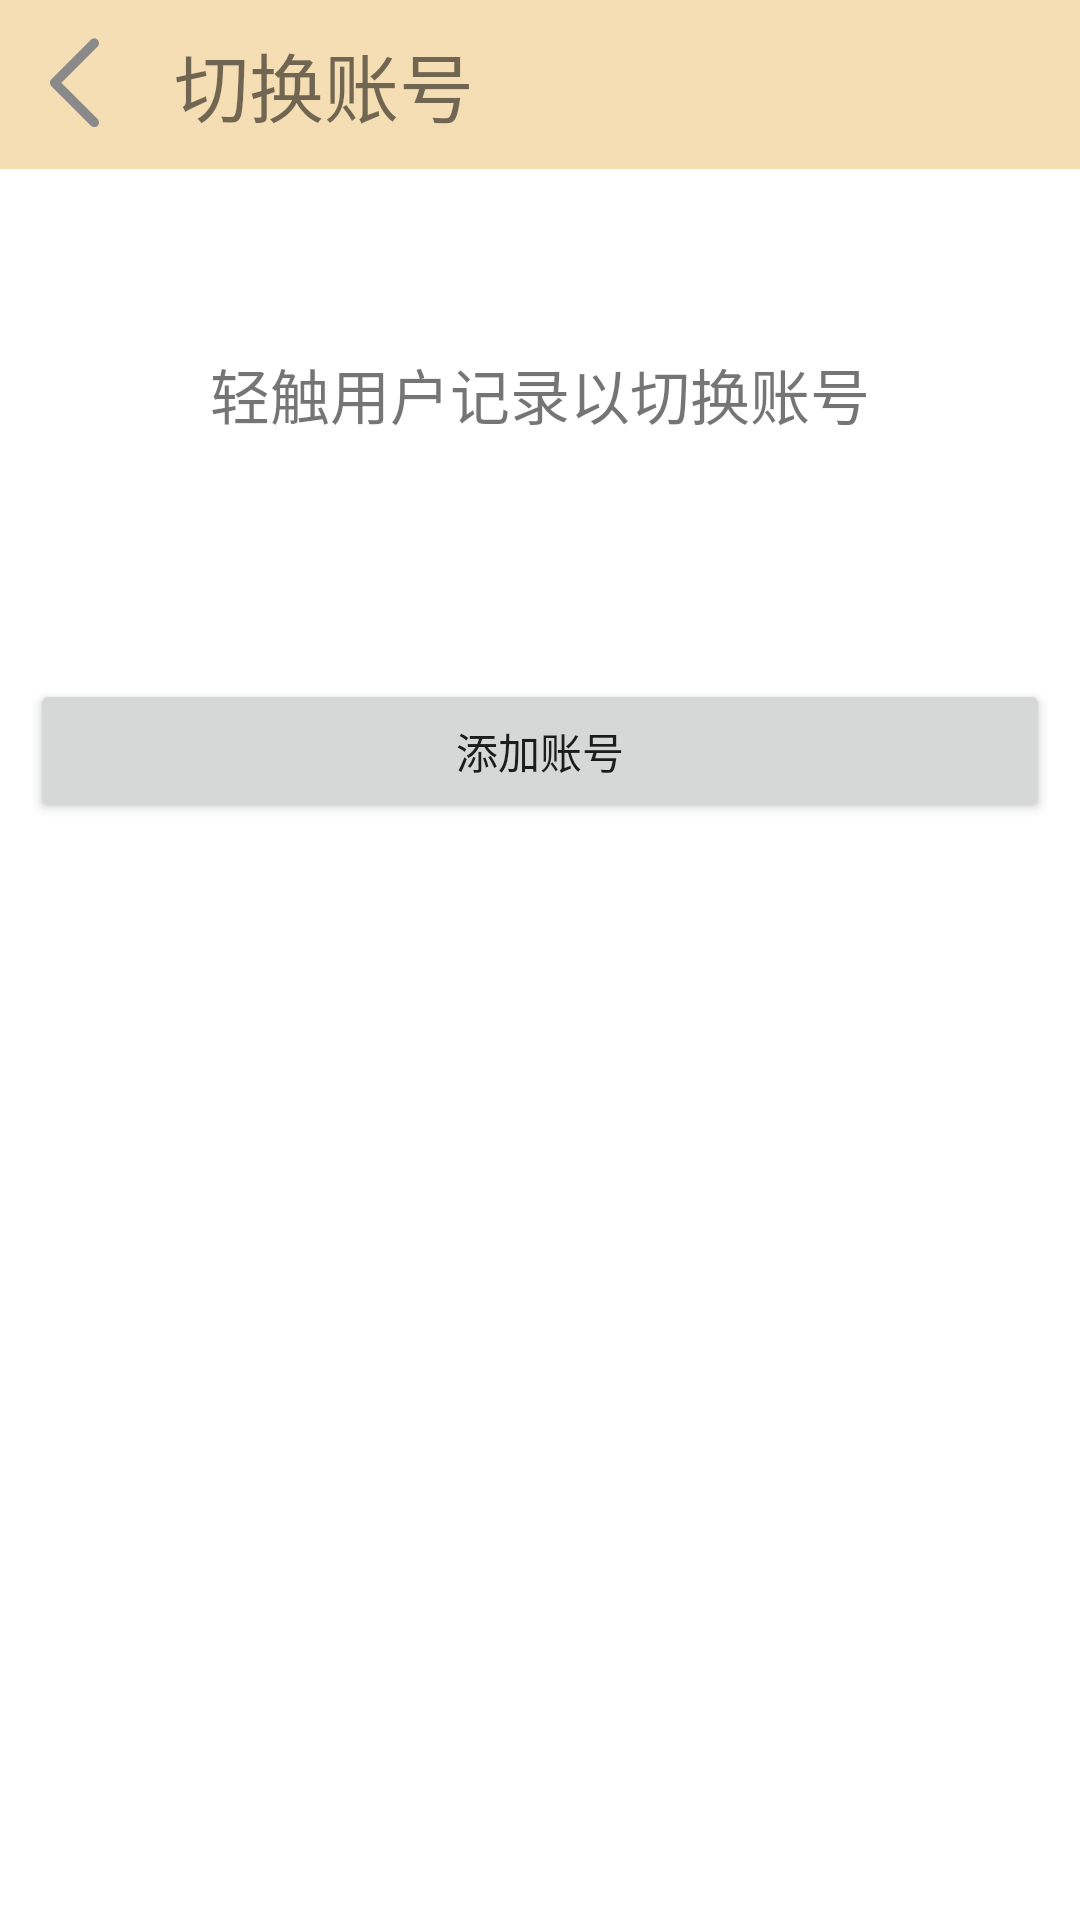

Named icons in this screenshot (1080px×1920px) and their centers, point (x, y):
back: point (74, 82)
